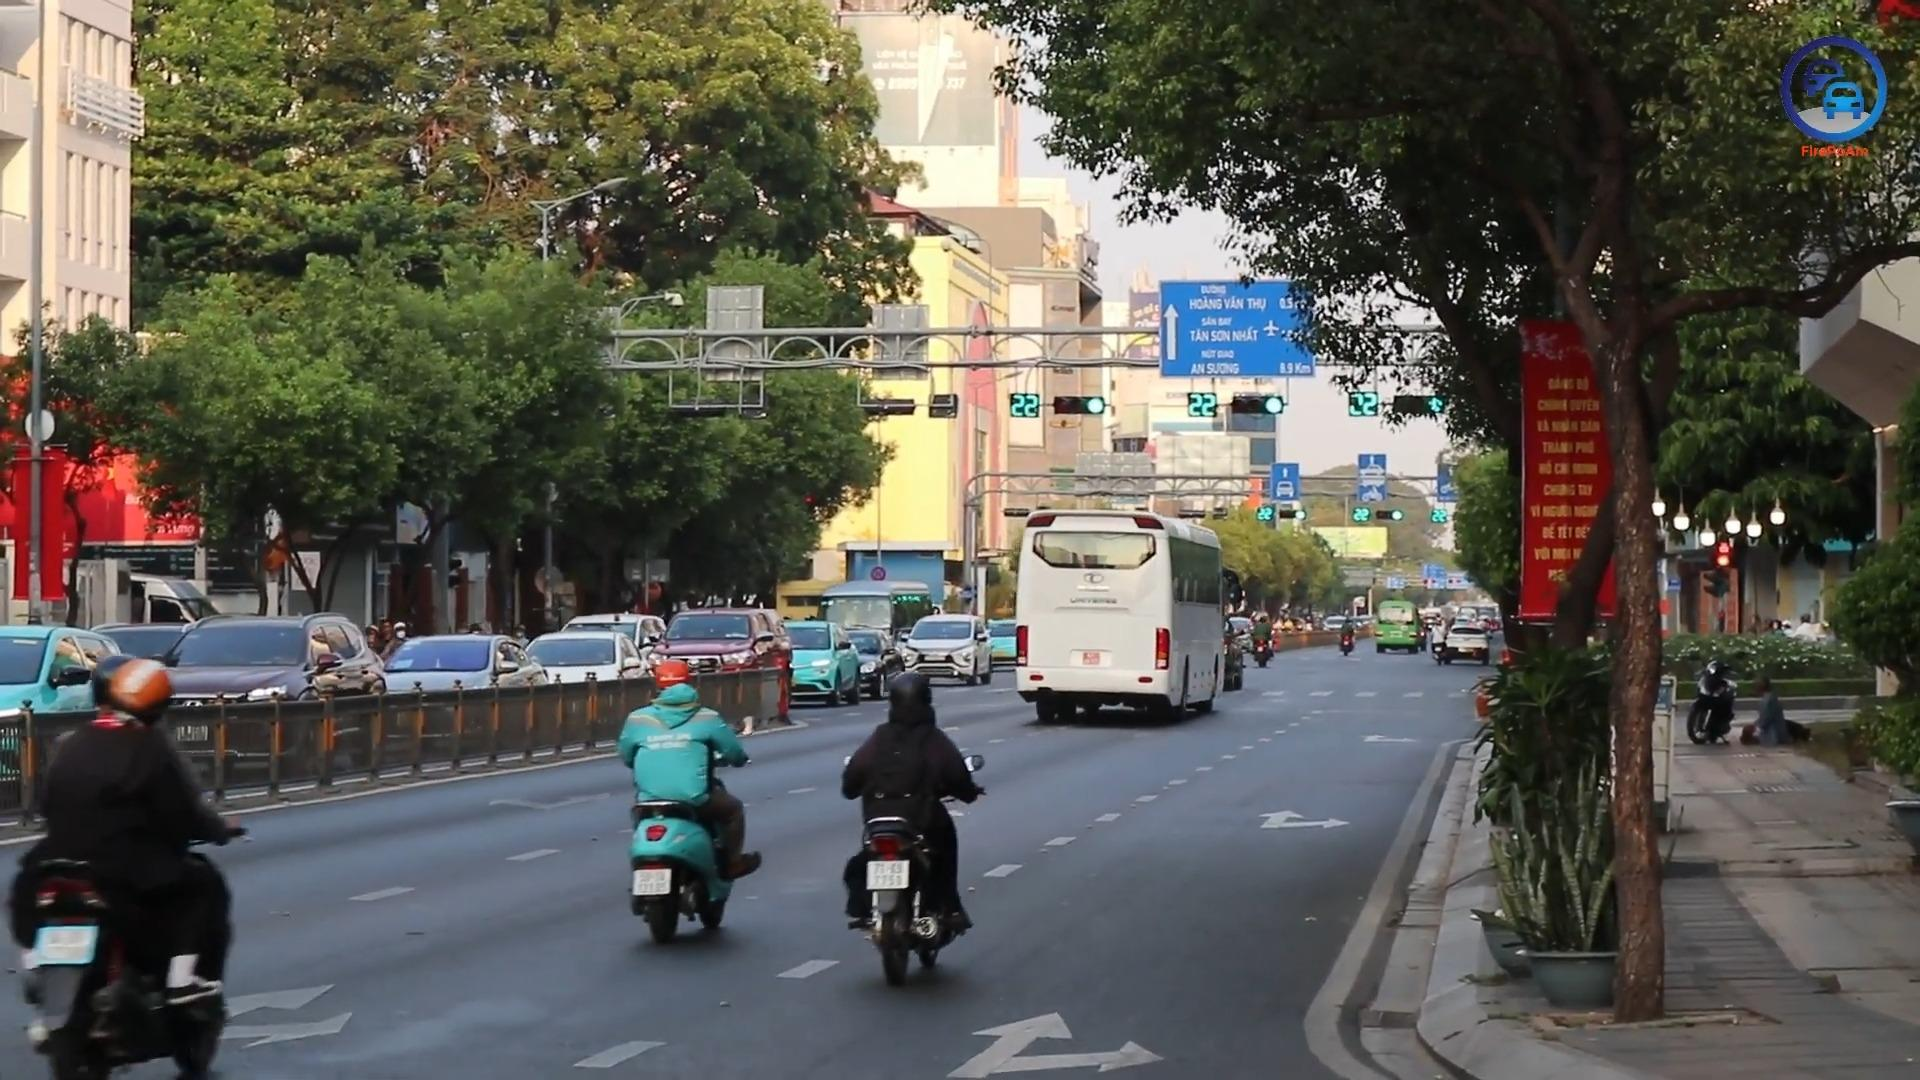bien_so: (30, 923, 98, 967), (865, 859, 911, 891), (630, 866, 673, 897), (1081, 651, 1101, 667)
